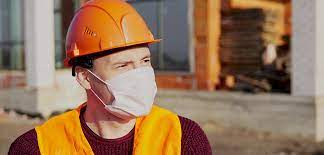Helmet: (53, 4, 172, 54)
Mask: (89, 78, 171, 120)
